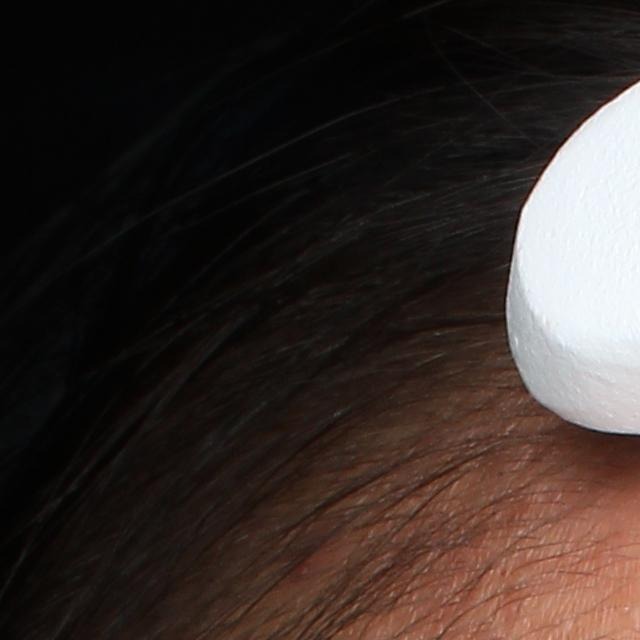papule: (289, 539, 325, 582)
